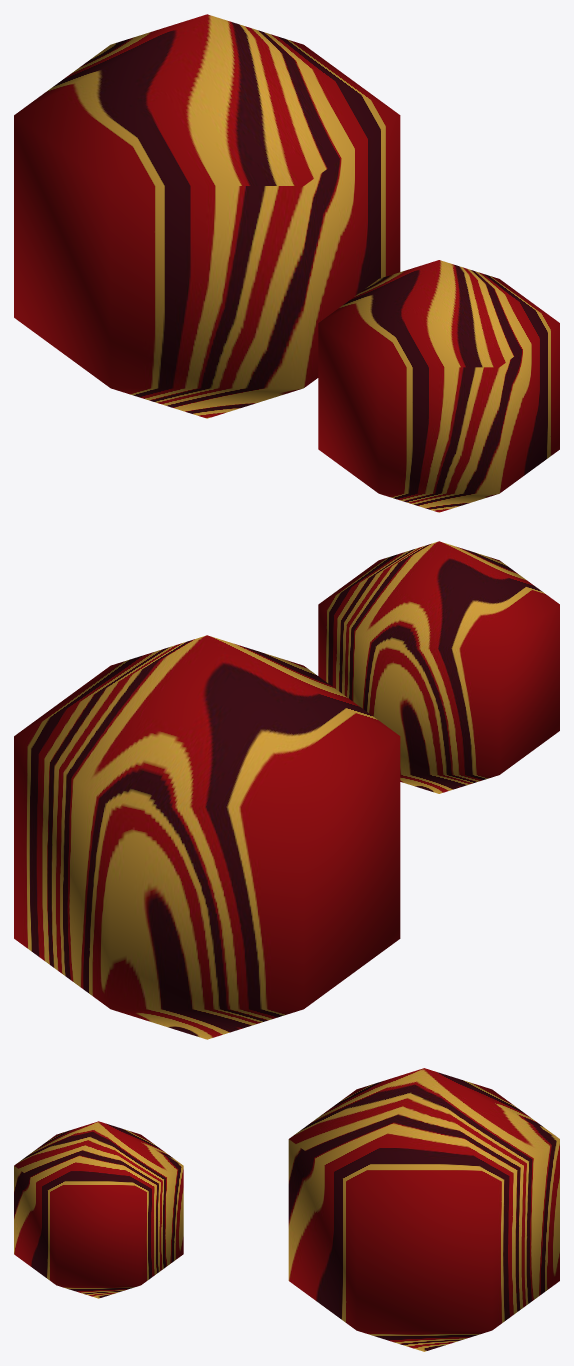
Rendered from mummymarble_selection.DAE.
3 renders of one model, top to bottom at view 1: azimuth 30°, elevation 25°; view 2: azimuth 150°, elevation 25°; view 3: azimuth 270°, elevation 25°, orthographic. The views are drawn at different scales.
Parts seen in each view (by area): view 1: Shooter_D, Standard_D; view 2: Shooter_D, Standard_D; view 3: Shooter_D, Standard_D.
Part boxes in pixels (bbox=[...]): Shooter_D: bbox=[14, 14, 400, 418]; Standard_D: bbox=[318, 260, 559, 512]; Shooter_D: bbox=[14, 635, 400, 1039]; Standard_D: bbox=[318, 541, 559, 793]; Shooter_D: bbox=[288, 1068, 559, 1351]; Standard_D: bbox=[14, 1121, 183, 1298].
Size of the model in its own units: 0.0381 by 0.0886 by 0.0508.
Materials: 1 (1 with a texture image).
